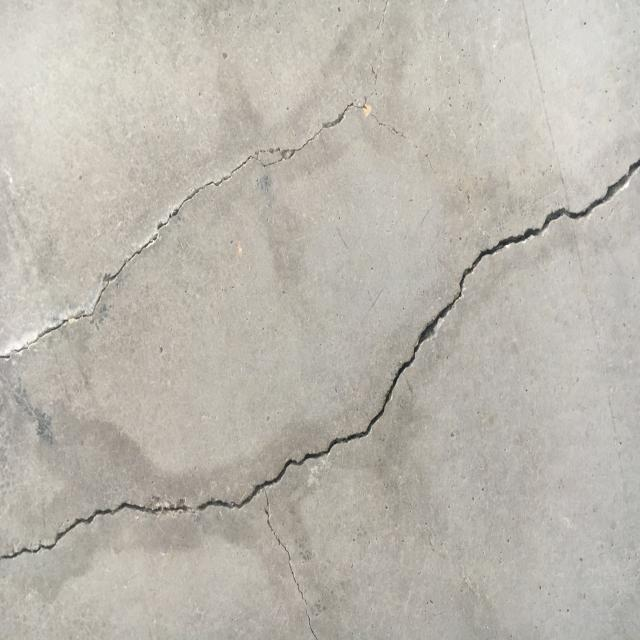SurfaceCrack: (1, 117, 640, 640)
